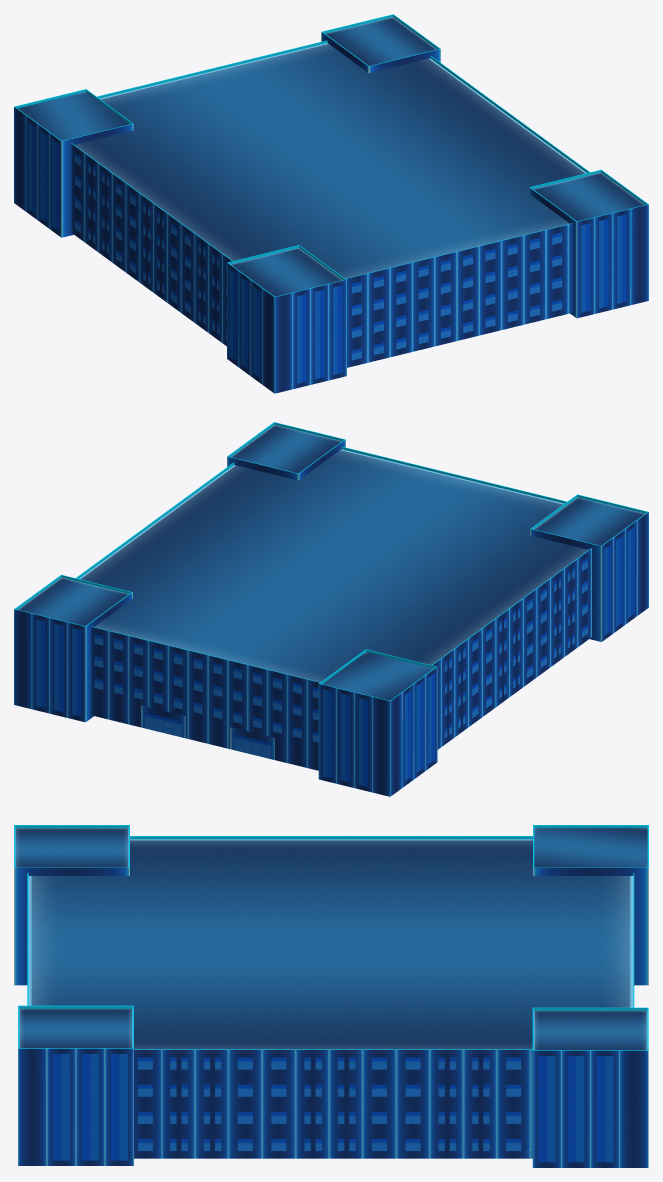
Rendered from iocCX.gltf.
3 renders of one model, top to bottom at view 1: azimuth 30°, elevation 25°; view 2: azimuth 150°, elevation 25°; view 3: azimuth 270°, elevation 25°, orthographic. The views are drawn at different scales.
Parts seen in each view (by area): view 1: Box119; view 2: Box119; view 3: Box119.
Boxes of the visible parts, bbox=[...] form: Box119: bbox=[14, 14, 648, 393]; Box119: bbox=[14, 422, 648, 796]; Box119: bbox=[14, 825, 648, 1167].
Bounding box in the file's own units: 89.03 × 21.61 × 106.
8 materials, 8 textured.
